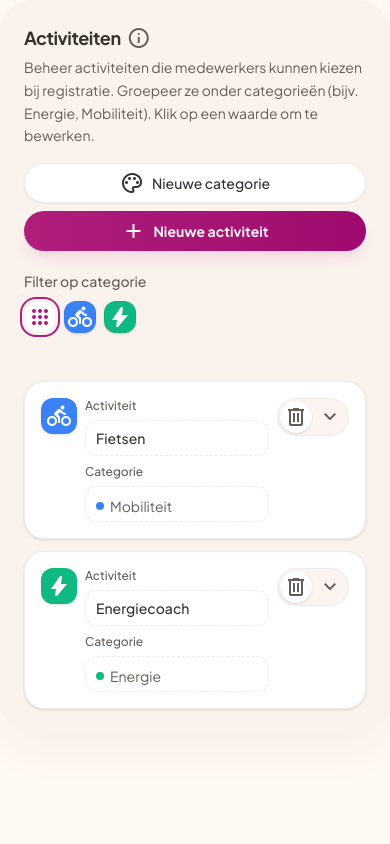
Test: <InterventionsTab /> › opens category dropdown when clicking the category cell
The image size is (390, 844).
Click the button with aria-label "categorie bewerken: mobiliteit": click(177, 504) left=85, top=486, right=269, bottom=522
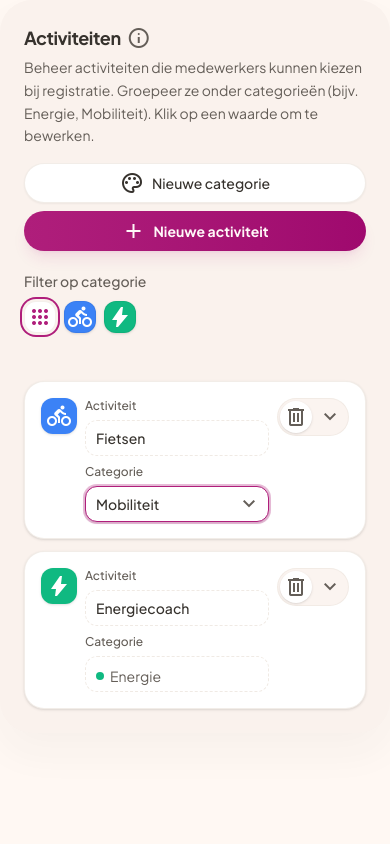
Check: the dropdown named "categorie bewerken" is shown, box left=85, top=486, right=269, bottom=522
